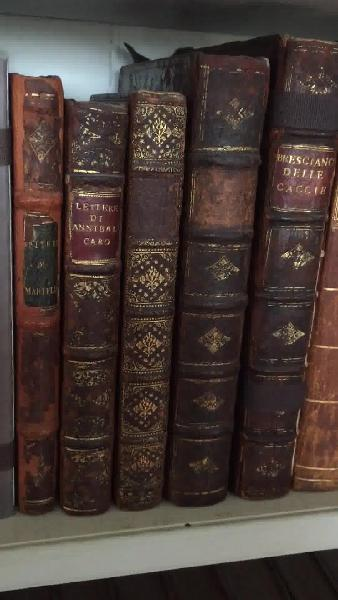Aa6-28: (12, 68, 70, 522)
Aa6-29: (68, 89, 120, 509)
Aa6-30: (127, 93, 193, 518)
Aa6-31: (162, 32, 263, 516)
Aa6-32: (229, 22, 338, 508)
